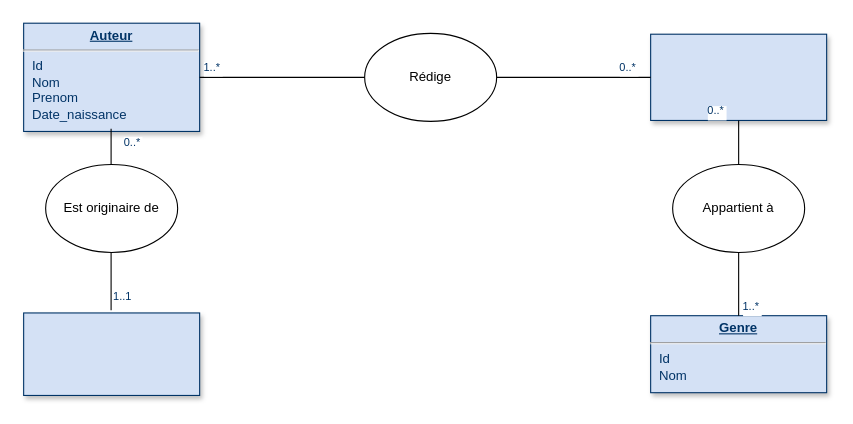
Image size: 853x424. Some labels were removed from this diagram. Each missing label, with the centre of its shape:
"Livre Id Titre isbn" goes at (739,78).
"Pays Id Nom" goes at (112,355).
